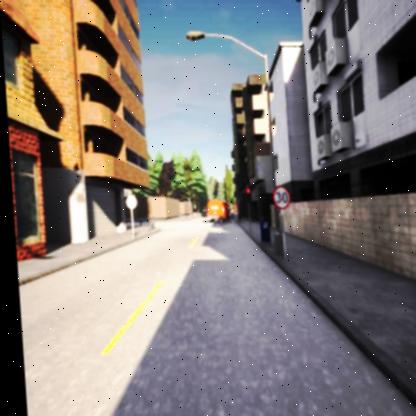vehicle: (203, 200, 224, 221)
